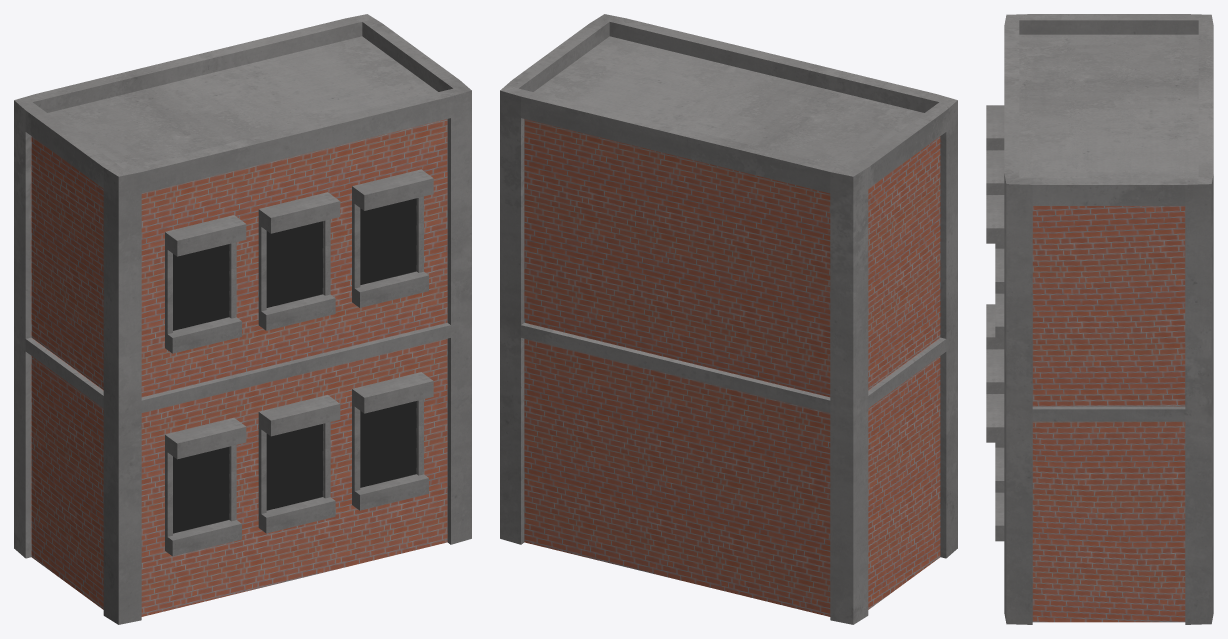
File: building_2_001.glb
3 views of the same model, side by side, from view 1: azimuth 30°, elevation 25°; view 2: azimuth 150°, elevation 25°; view 3: azimuth 270°, elevation 25° (orthographic).
Visible parts, largest first — view 1: building_2.001; view 2: building_2.001; view 3: building_2.001.
Part boxes in pixels (x1=…): building_2.001: x1=14, y1=14, x2=471, y2=624; building_2.001: x1=500, y1=14, x2=957, y2=624; building_2.001: x1=986, y1=14, x2=1213, y2=624.
Size of the model in its own units: 4.13 by 4.95 by 2.32.
1 material, 1 textured.
